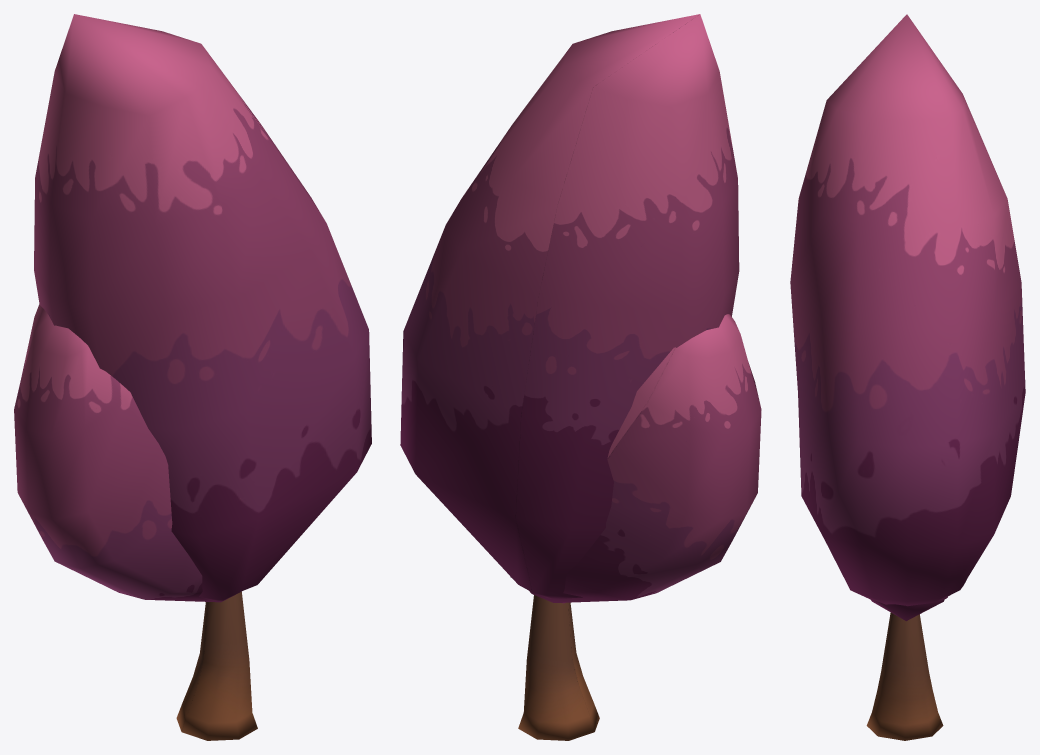
File: Tree_Purple2.fbx
The picture shows the model from 3 angles, left to right: view 1: azimuth 30°, elevation 25°; view 2: azimuth 150°, elevation 25°; view 3: azimuth 270°, elevation 25°; orthographic projection. The views are drawn at different scales.
Parts seen in each view (by area): view 1: pasted__pCylinder9, pasted__pCylinder11, pasted__pCylinder7; view 2: pasted__pCylinder9, pasted__pCylinder11, pasted__pCylinder7; view 3: pasted__pCylinder9, pasted__pCylinder7, pasted__pCylinder11.
Boxes of the visible parts, bbox=[...] form: pasted__pCylinder9: bbox=[34, 14, 371, 600]; pasted__pCylinder11: bbox=[14, 304, 241, 602]; pasted__pCylinder7: bbox=[176, 591, 257, 740]; pasted__pCylinder9: bbox=[400, 14, 739, 603]; pasted__pCylinder11: bbox=[510, 314, 761, 602]; pasted__pCylinder7: bbox=[518, 595, 599, 740]; pasted__pCylinder9: bbox=[790, 14, 1025, 606]; pasted__pCylinder7: bbox=[866, 612, 943, 740]; pasted__pCylinder11: bbox=[870, 595, 947, 621].
Bounding box in the file's own units: 97.69 × 209 × 68.35.
